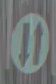Two way: (6, 5, 49, 76)
